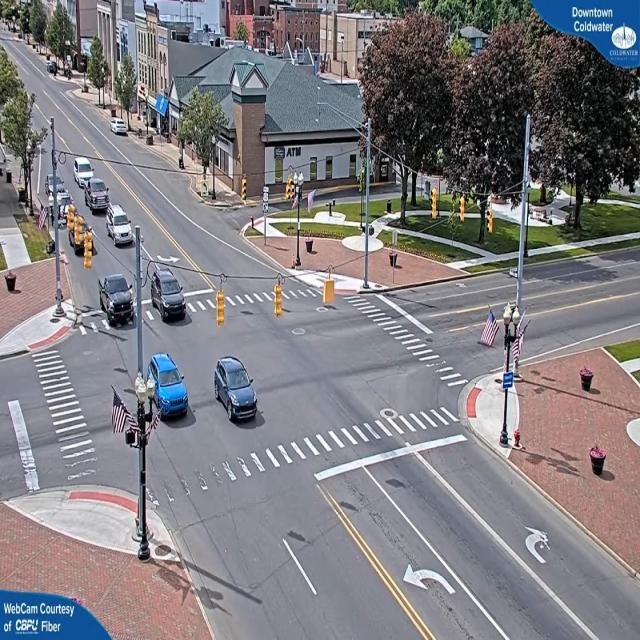car: (213, 357, 260, 420), (150, 357, 191, 423), (150, 267, 188, 323), (100, 274, 136, 325), (76, 163, 109, 218), (108, 206, 135, 248), (112, 119, 129, 136)
